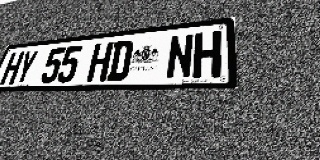5: (56, 45, 83, 83), (39, 47, 66, 84)
D: (106, 40, 134, 81)
H: (192, 30, 221, 78), (86, 42, 114, 82), (0, 51, 25, 85)
N: (165, 33, 194, 79)
Y: (13, 50, 39, 84)
